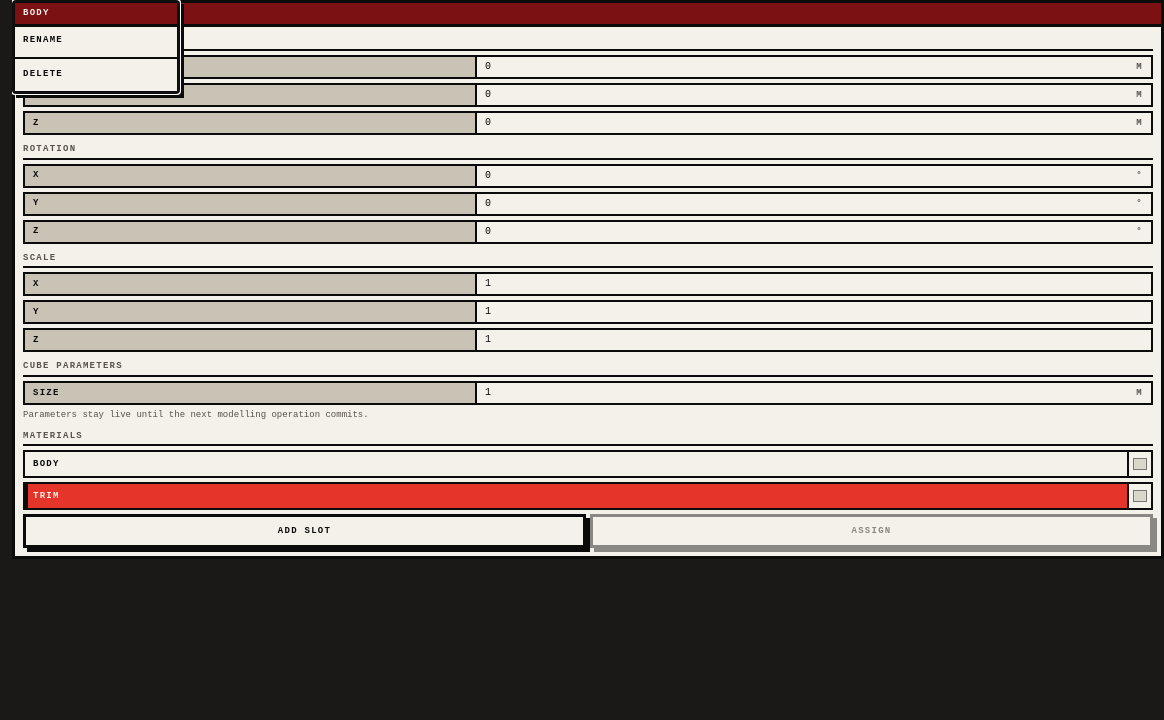
Test: PropertiesPanel material slots › starts a rename in place from the menu
Click the menu item "RENAME" at (96, 41), box [15,27,177,55]
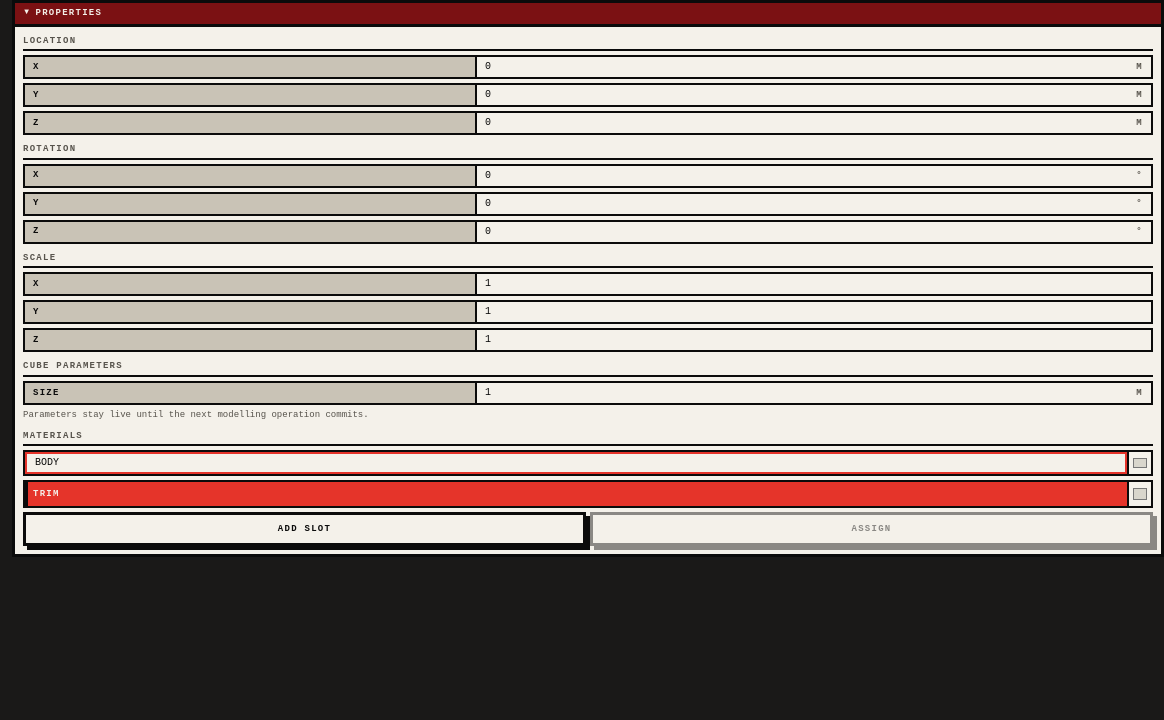
Now the field showing "BODY" is shown, box [25,452,1127,474]
